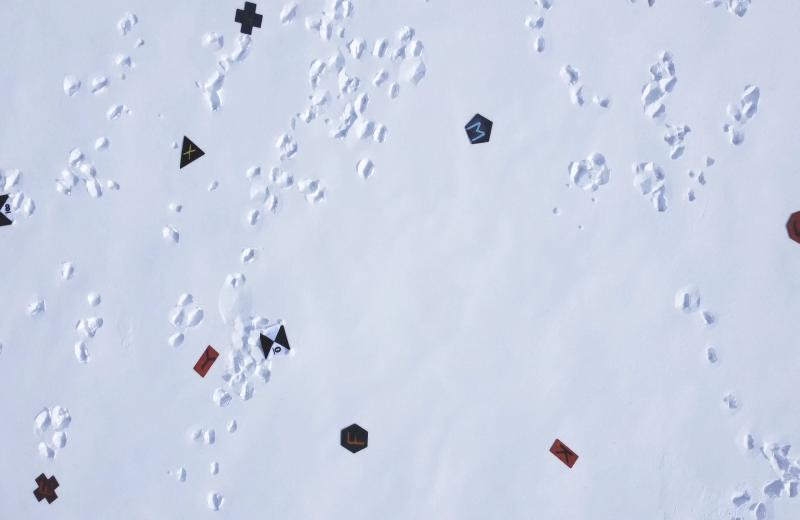Cross: (31, 474, 64, 506), (234, 0, 264, 35)
Hexagon: (339, 421, 370, 454)
Octagon: (786, 208, 800, 245)
Pentagon: (464, 112, 496, 147)
Rectangle: (549, 436, 582, 471), (193, 345, 222, 379)
Triangle: (177, 134, 206, 170)
